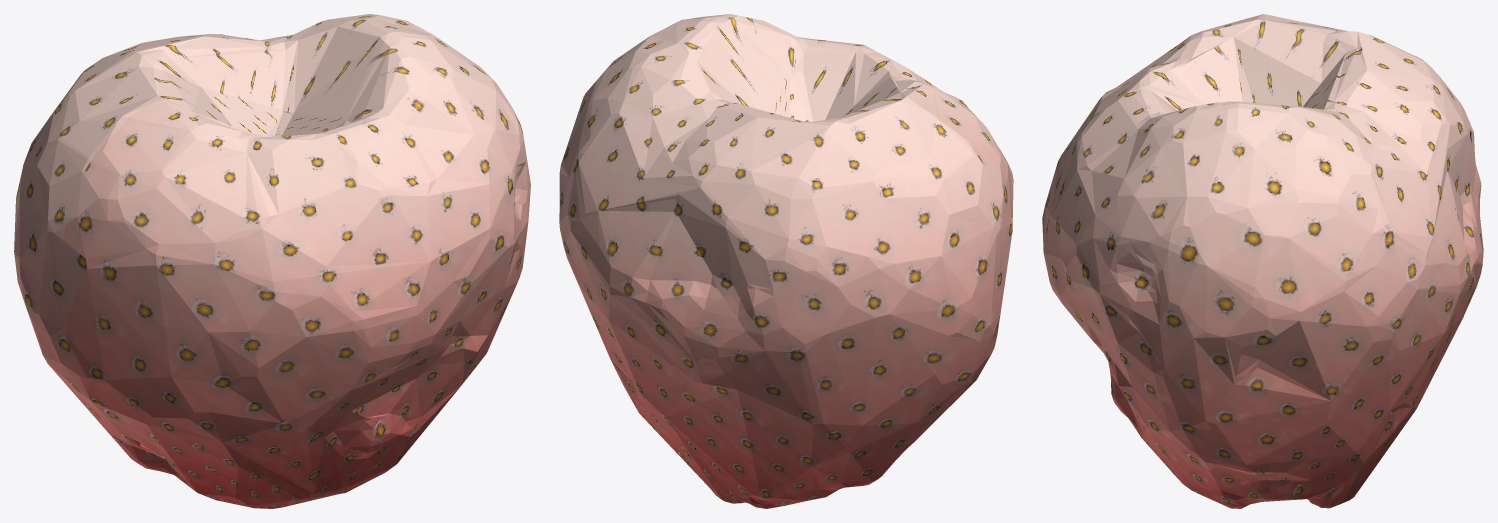
The picture shows the model from 3 angles, left to right: view 1: azimuth 30°, elevation 25°; view 2: azimuth 150°, elevation 25°; view 3: azimuth 270°, elevation 25°; orthographic projection. The views are drawn at different scales.
Parts seen in each view (by area): view 1: _002_Meshed; view 2: _002_Meshed; view 3: _002_Meshed.
Part boxes in pixels (x1,y1,x2,y2): _002_Meshed: (14,14,530,508); _002_Meshed: (559,14,1013,508); _002_Meshed: (1042,14,1483,508).
Bounding box in the file's own units: 0.1 × 0.0879 × 0.0956.
1 material, 1 textured.
